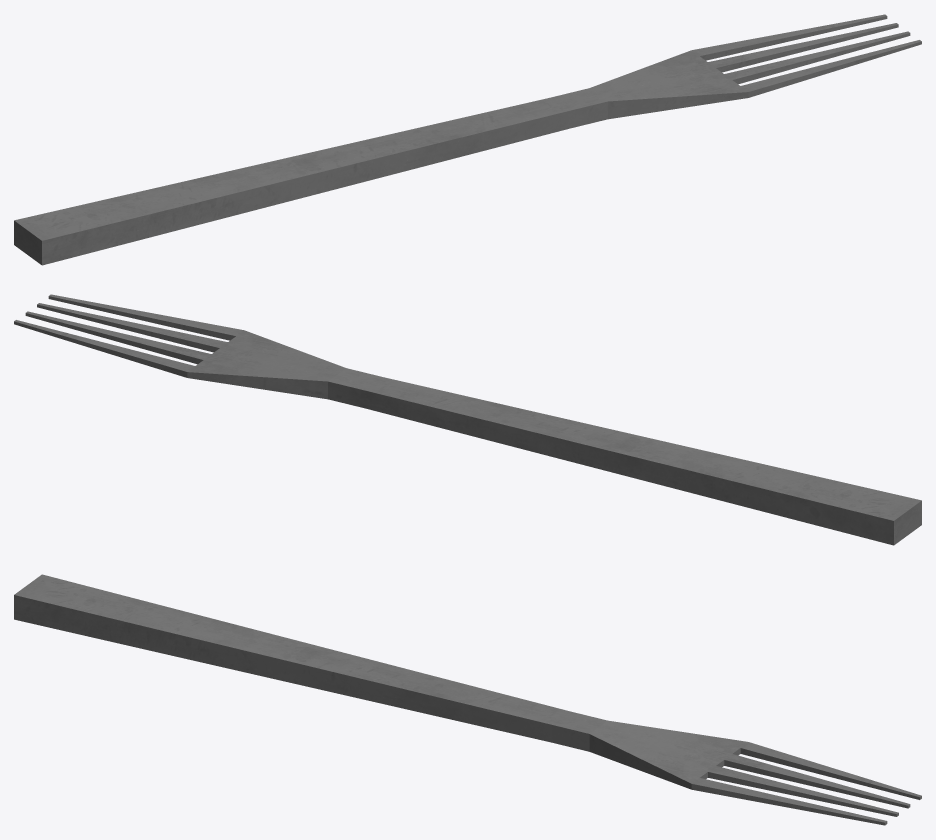
Rendered from FORK.fbx.
3 renders of one model, top to bottom at view 1: azimuth 30°, elevation 25°; view 2: azimuth 150°, elevation 25°; view 3: azimuth 330°, elevation 25°, orthographic.
Parts seen in each view (by area): view 1: pCube2; view 2: pCube2; view 3: pCube2.
Part boxes in pixels (box(x1,y1,x2,y2)): pCube2: box(14, 14, 921, 265); pCube2: box(14, 294, 921, 545); pCube2: box(14, 574, 921, 825).
Bounding box in the file's own units: 82.79 × 2.22 × 9.36.
